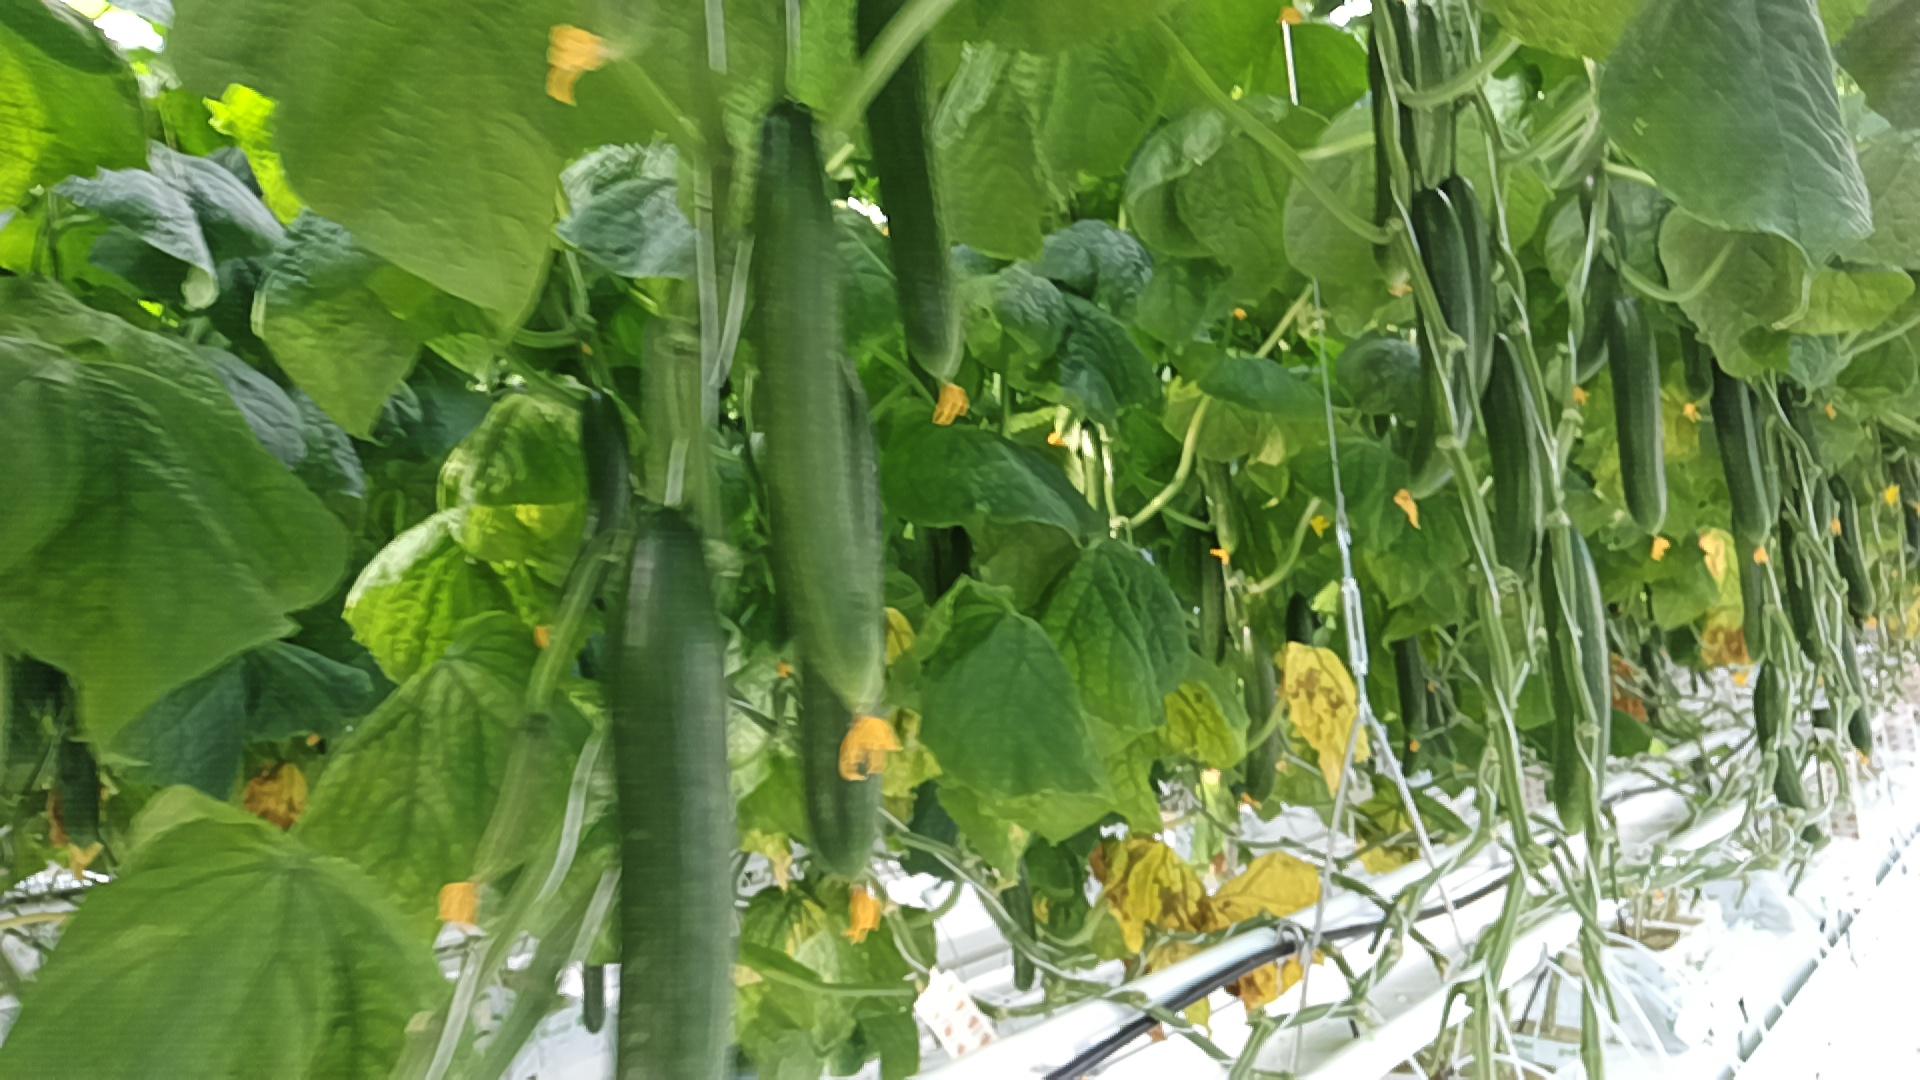gurka: (749, 94, 899, 741)
